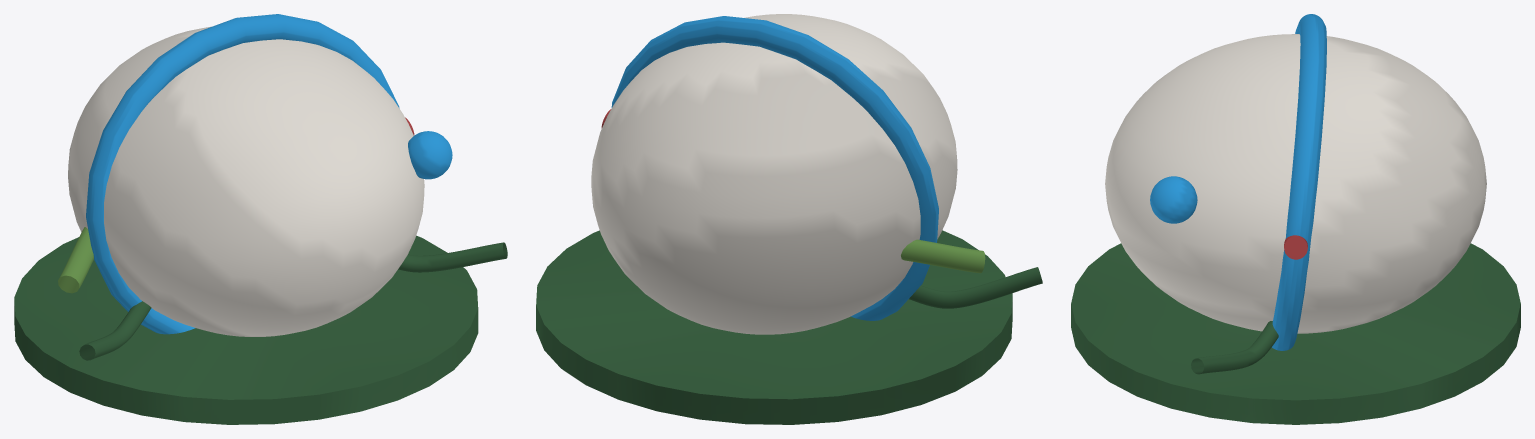
The model's file is 1220_细胞图鉴_外膜.glb.
3 renders of one model, left to right at view 1: azimuth 30°, elevation 25°; view 2: azimuth 150°, elevation 25°; view 3: azimuth 270°, elevation 25°, orthographic. The views are drawn at different scales.
Parts seen in each view (by area): view 1: card_1220; view 2: card_1220; view 3: card_1220.
Part boxes in pixels (box(x1,y1,x2,y2)): card_1220: box(14, 14, 507, 424); card_1220: box(536, 14, 1042, 424); card_1220: box(1071, 14, 1520, 424).
Bounding box in the file's own units: 1.43 × 1 × 1.33.
